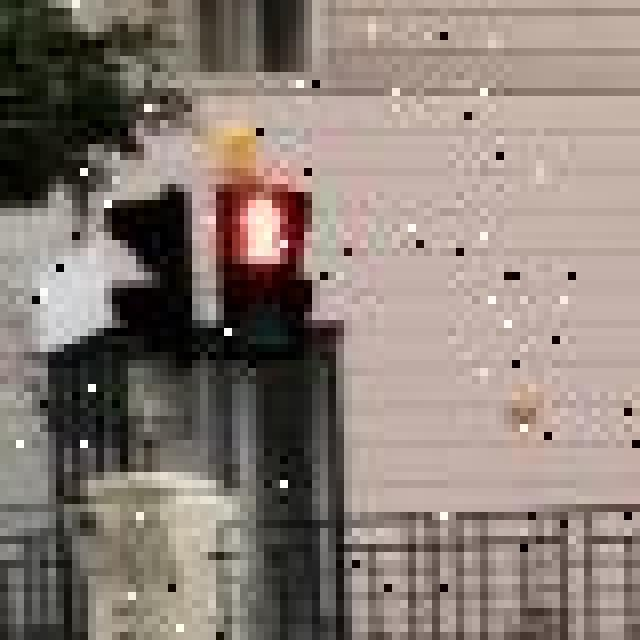redlight: (212, 184, 321, 364)
